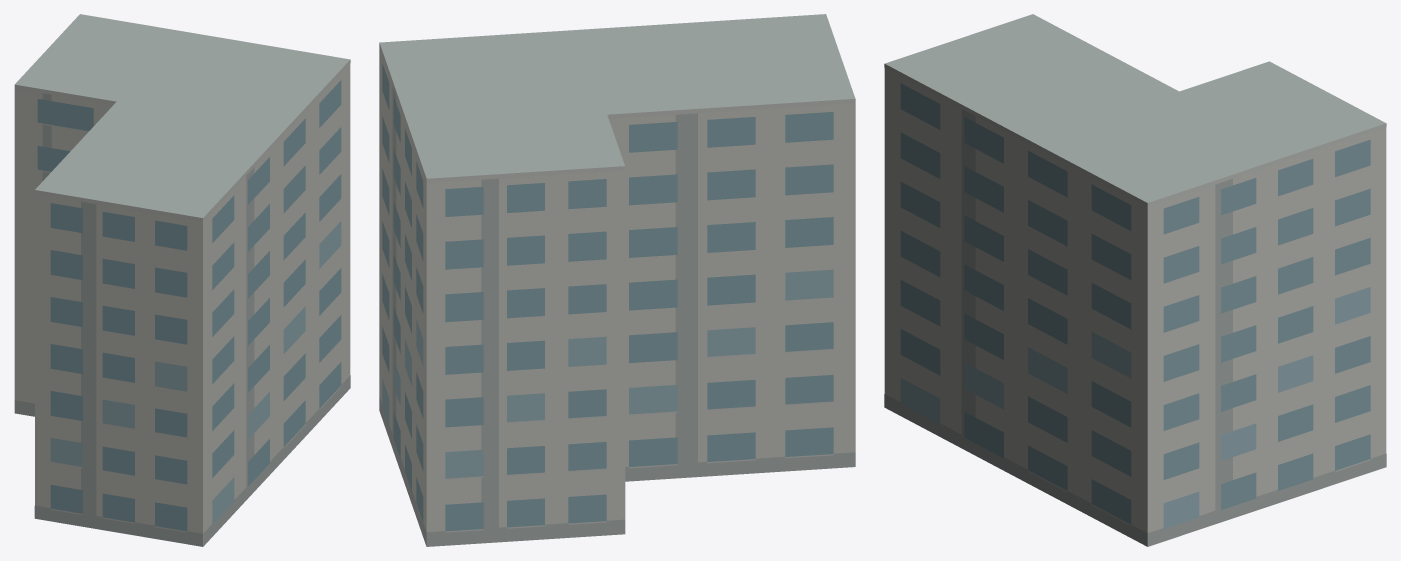
Rendered from survey-upis-32829401.glb.
3 views of the same model, side by side, from view 1: azimuth 30°, elevation 25°; view 2: azimuth 150°, elevation 25°; view 3: azimuth 270°, elevation 25° (orthographic). The views are drawn at different scales.
Parts seen in each view (by area): view 1: survey-upis-32829401.tmp; view 2: survey-upis-32829401.tmp; view 3: survey-upis-32829401.tmp.
Part boxes in pixels (x1,y1,x2,y2): survey-upis-32829401.tmp: [14, 14, 350, 546]; survey-upis-32829401.tmp: [379, 14, 855, 546]; survey-upis-32829401.tmp: [884, 14, 1386, 546].
Bounding box in the file's own units: 23.7 × 20.1 × 26.6.
